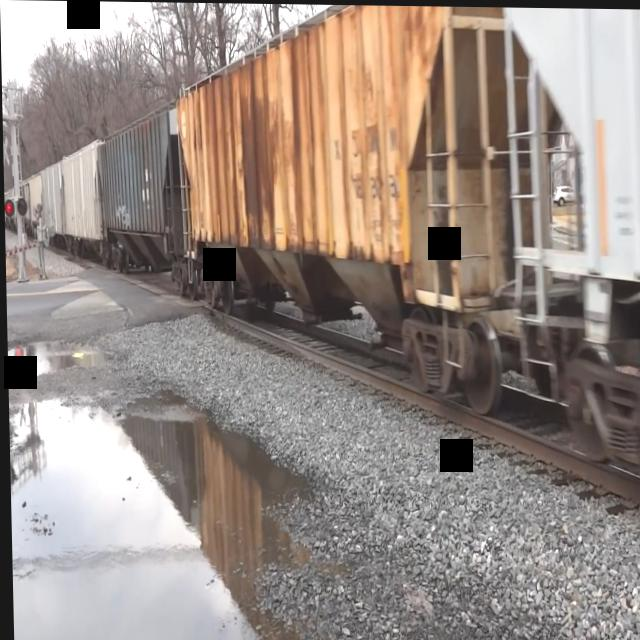hopper: (170, 2, 515, 426), (503, 6, 640, 521), (94, 85, 176, 292)
